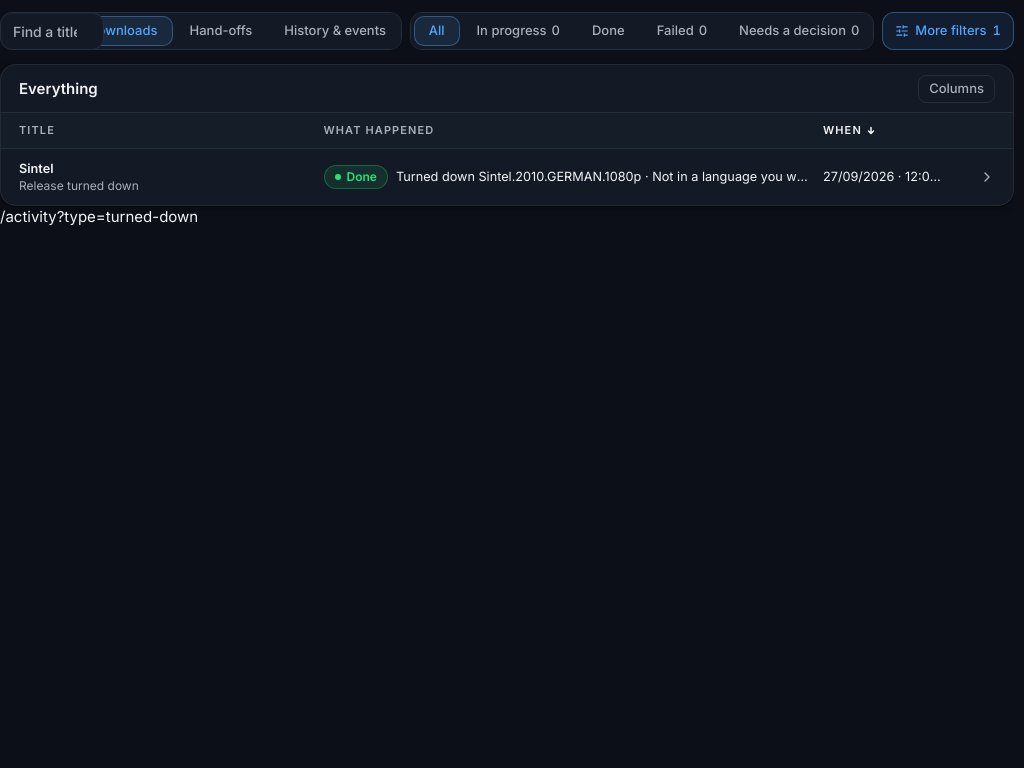
Test: Activity history keeps its filters in the address (#1100) › shows a turned-down release with its title, the indexer and the reason in plain words
What coordinates should you click on to do the following:
click the text "Turned down Sintel.2010.GERMAN.1080p · Not in a language you want"
I would click on:
 (603, 177)
Its box is 396,169 -> 811,185.
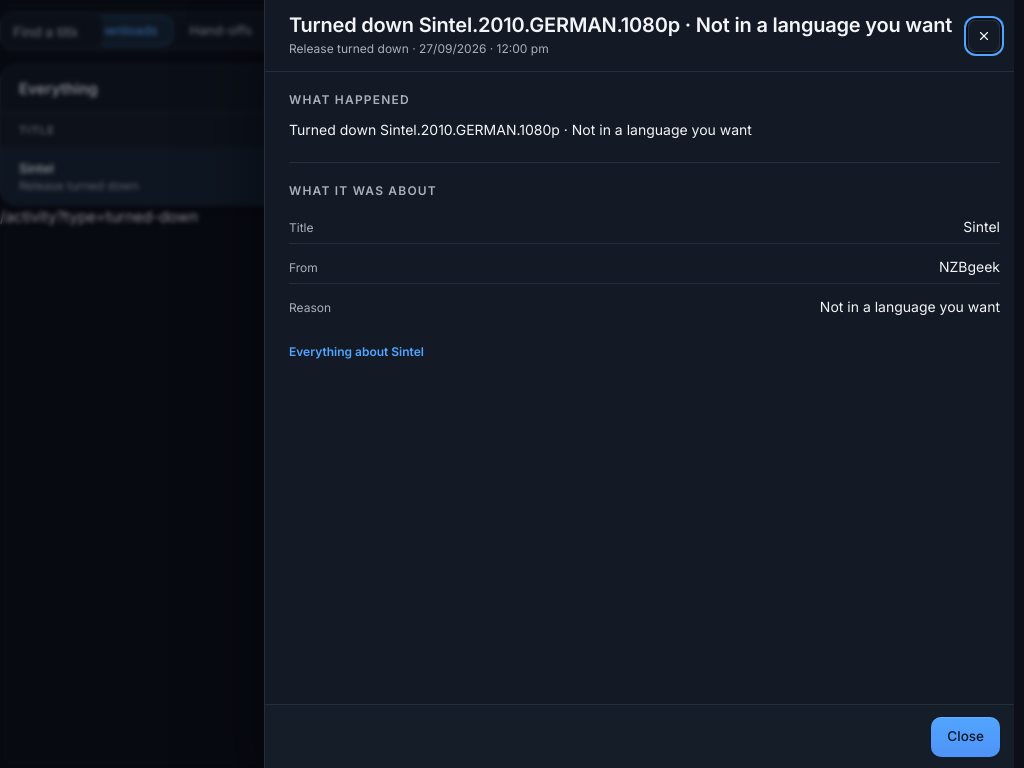
Check: the text "Sintel" is shown, box 963,216 -> 1000,237
Check: the text "NZBgeek" is shown, box 939,256 -> 1000,277
Check: the text "Not in a language you want" is shown, box 820,296 -> 1000,317
